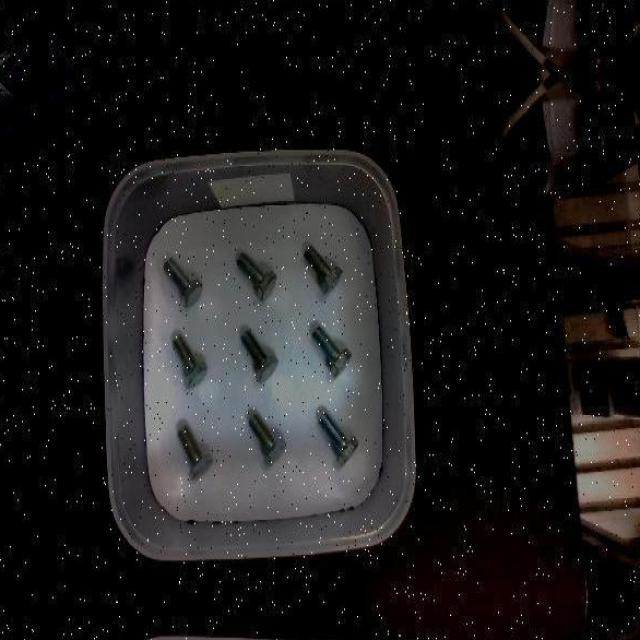screw: (319, 410, 359, 466), (248, 413, 287, 465), (312, 326, 352, 376), (164, 256, 203, 306), (177, 425, 213, 479), (236, 251, 276, 299), (242, 330, 278, 382), (174, 334, 208, 388), (304, 246, 342, 294)
